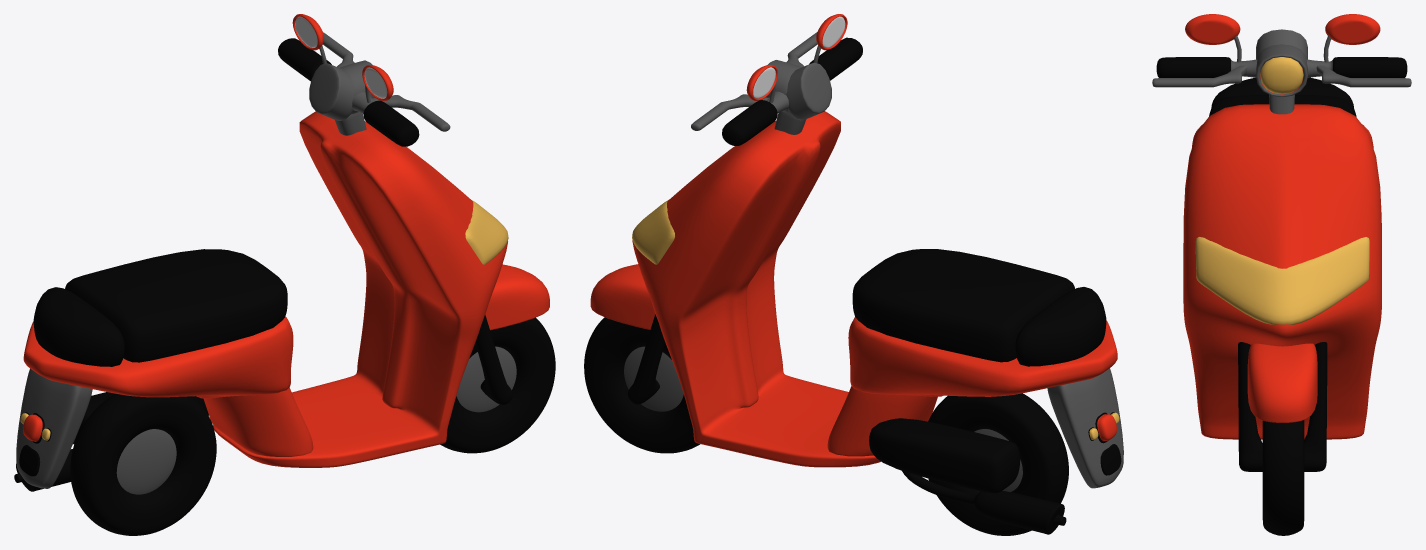
Rendered from Gemastik_BaseMeshMotorcycles2 (2).fbx.
3 views of the same model, side by side, from view 1: azimuth 30°, elevation 25°; view 2: azimuth 150°, elevation 25°; view 3: azimuth 270°, elevation 25° (orthographic).
Visible parts, largest first — view 1: Cube.016, Cube.002, Cube.001, Cube.003, Cube.005; view 2: Cube.016, Cube.002, Cube.001, Cube.003, Cube.005; view 3: Cube.016, Cube.001, Cube.003, Cube.004.
Boxes of the visible parts, box(x1,y1,x2,y2) form: Cube.016: box(14, 32, 549, 494); Cube.002: box(70, 393, 216, 535); Cube.001: box(440, 317, 555, 453); Cube.003: box(292, 14, 393, 102); Cube.005: box(20, 412, 51, 443); Cube.016: box(590, 32, 1123, 534); Cube.002: box(928, 393, 1068, 535); Cube.001: box(584, 317, 700, 453); Cube.003: box(746, 14, 847, 102); Cube.005: box(1088, 412, 1119, 443); Cube.016: box(1152, 29, 1411, 471); Cube.001: box(1262, 420, 1304, 535); Cube.003: box(1185, 14, 1380, 62); Cube.004: box(1256, 44, 1307, 97).
Size of the model in its own units: 587 by 470 by 248.
